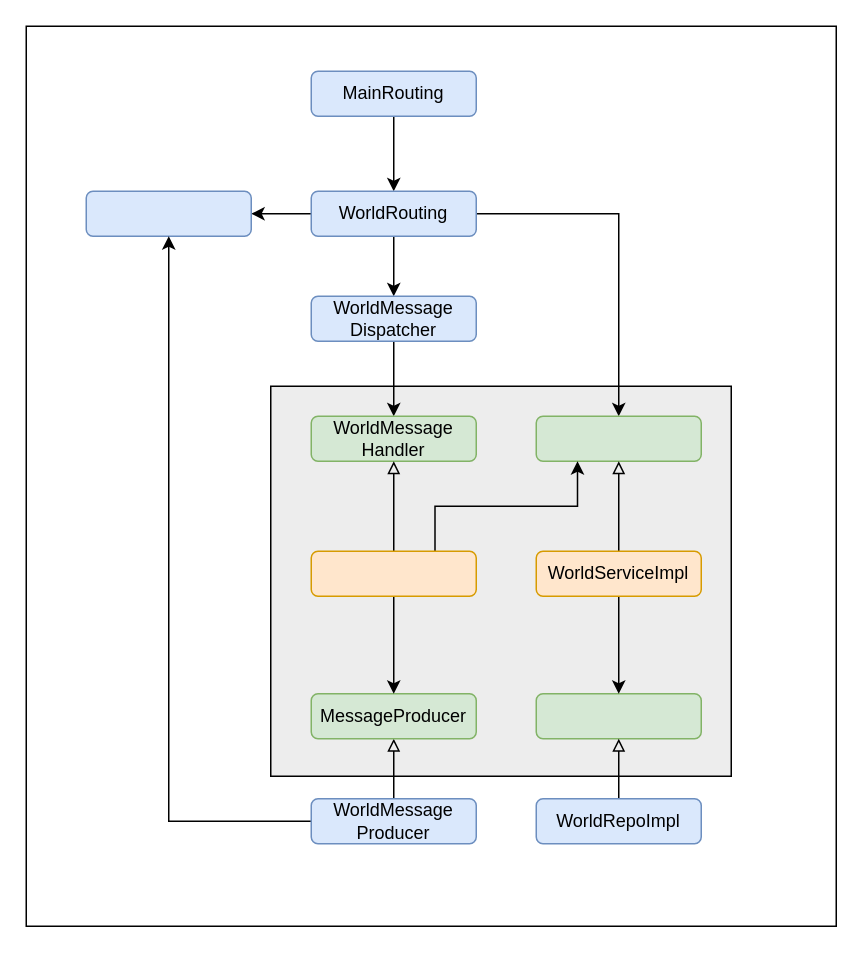
Image size: 863x953. Some labels were removed from this diagram. The centre of each missing label's shape, as x and y in pixels:
ConnectionHandler: the point at 168,213
WorldMessage HandlerImpl: the point at 393,573
WorldRepository: the point at 618,715
WorldService: the point at 618,438
